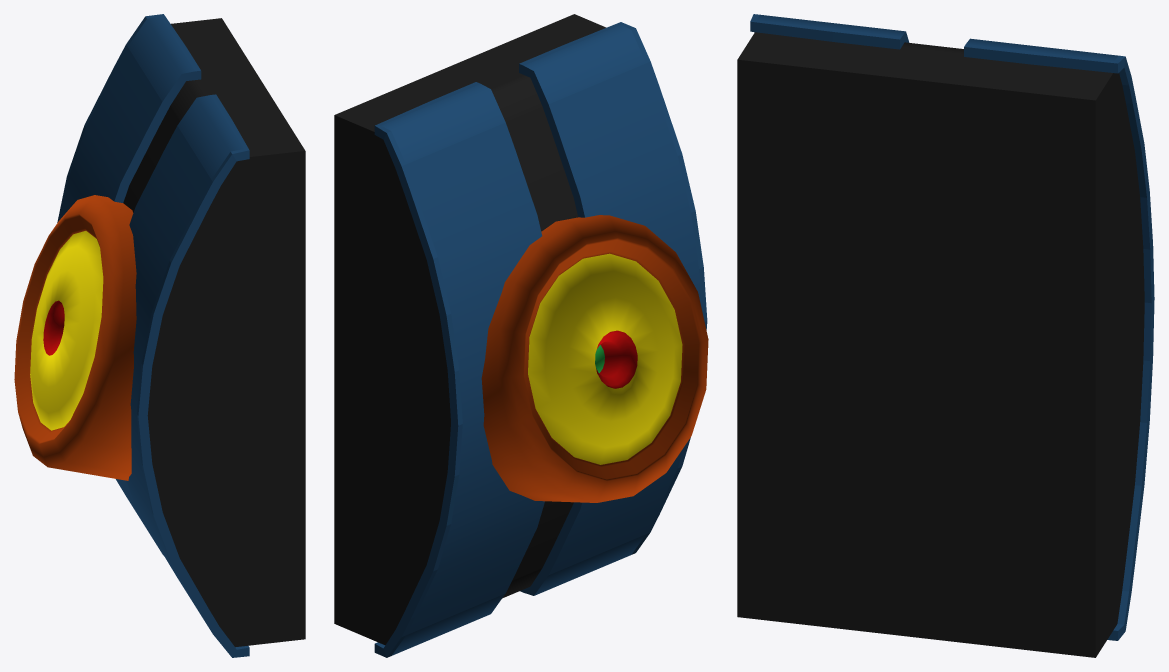
The model's file is Escaner_Retina.FBX.
3 views of the same model, side by side, from view 1: azimuth 30°, elevation 25°; view 2: azimuth 150°, elevation 25°; view 3: azimuth 270°, elevation 25° (orthographic). The views are drawn at different scales.
Parts seen in each view (by area): view 1: Base, Escaner_Retina001; view 2: Base, Escaner_Retina001; view 3: Base.
Part boxes in pixels (x1=…): Base: x1=57, y1=14, x2=305, y2=657; Escaner_Retina001: x1=14, y1=195, x2=136, y2=480; Base: x1=334, y1=14, x2=707, y2=657; Escaner_Retina001: x1=481, y1=215, x2=708, y2=502; Base: x1=737, y1=14, x2=1154, y2=657.
Size of the model in its own units: 20.7 by 39.47 by 25.84.
